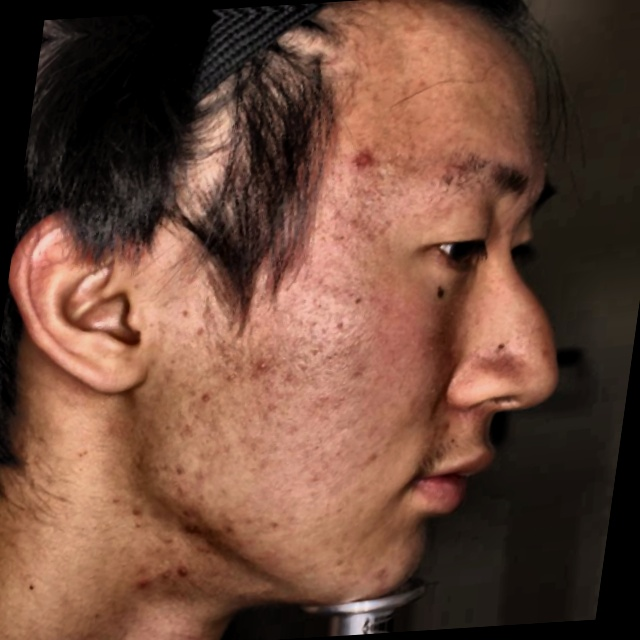comedone: (172, 514, 205, 547), (351, 147, 374, 175)
